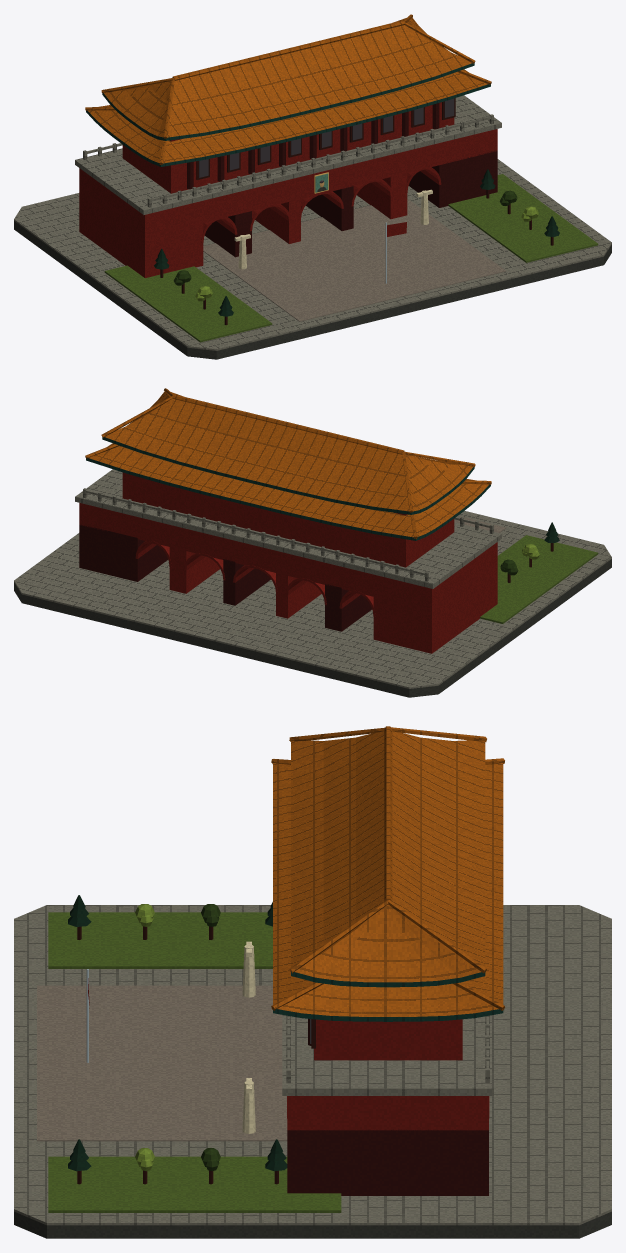
The model's file is tiananmen-square.glb.
3 views of the same model, one above another, from view 1: azimuth 30°, elevation 25°; view 2: azimuth 150°, elevation 25°; view 3: azimuth 270°, elevation 25° (orthographic). The views are drawn at different scales.
Parts seen in each view (by area): view 1: 天安门广场; view 2: 天安门广场; view 3: 天安门广场.
Boxes of the visible parts, x1,y1,x2,y2 form: 天安门广场: (14, 14, 611, 359); 天安门广场: (14, 388, 611, 697); 天安门广场: (14, 726, 611, 1238).
Size of the model in its own units: 11.2 by 4.39 by 8.9.
Materials: 18 (15 with a texture image).
